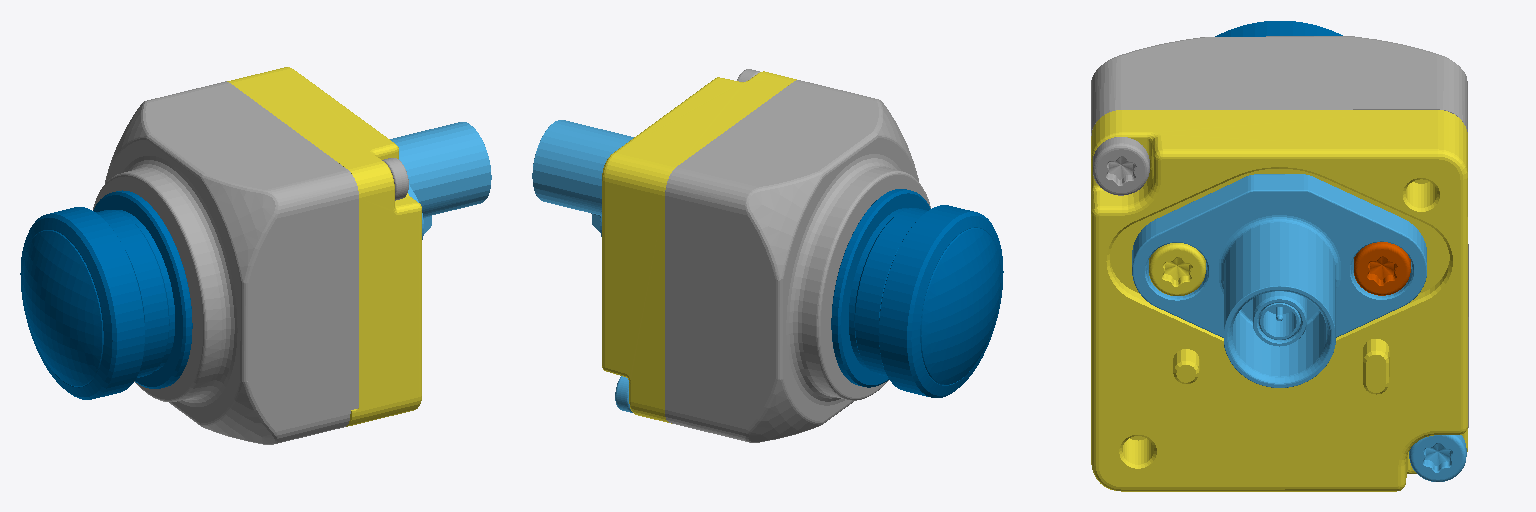
URDF robot description (SHF3G):
<?xml version="1.0"?>
<!-- Generated by usd2urdf.py from SHF3G.calibrated.acceptance.usd -->
<!-- metersPerUnit=0.01 upAxis=Z -->
<robot name="SHF3G">
  <link name="base_link">
  </link>
  <link name="Root">
  </link>
  <link name="SHF3G">
  </link>
  <link name="Lens">
  </link>
  <link name="Mesh">
    <visual>
      <origin xyz="0 0 0" rpy="0 0 0"/>
      <geometry>
        <mesh filename="meshes/Mesh.stl"/>
      </geometry>
    </visual>
    <collision>
      <origin xyz="0 0 0" rpy="0 0 0"/>
      <geometry>
        <mesh filename="meshes/Mesh.stl"/>
      </geometry>
    </collision>
    <inertial>
      <origin xyz="0 0 0" rpy="0 0 0"/>
      <mass value="0.15"/>
      <inertia ixx="8.09999846e-06" ixy="0" ixz="0" iyy="6.91312676e-06" iyz="0" izz="6.91312592e-06"/>
    </inertial>
  </link>
  <link name="Camera">
  </link>
  <link name="Top">
  </link>
  <link name="Mesh_1">
    <visual>
      <origin xyz="0 0 0" rpy="0 0 0"/>
      <geometry>
        <mesh filename="meshes/Mesh_1.stl"/>
      </geometry>
    </visual>
    <collision>
      <origin xyz="0 0 0" rpy="0 0 0"/>
      <geometry>
        <mesh filename="meshes/Mesh_1.stl"/>
      </geometry>
    </collision>
    <inertial>
      <origin xyz="0 0 0" rpy="0 0 0"/>
      <mass value="0.15"/>
      <inertia ixx="1.57174561e-05" ixy="0" ixz="0" iyy="1.07298366e-05" iyz="0" izz="1.07408424e-05"/>
    </inertial>
  </link>
  <link name="Fakra">
  </link>
  <link name="Mesh_2">
    <visual>
      <origin xyz="0 0 0" rpy="0 0 0"/>
      <geometry>
        <mesh filename="meshes/Mesh_2.stl"/>
      </geometry>
    </visual>
    <collision>
      <origin xyz="0 0 0" rpy="0 0 0"/>
      <geometry>
        <mesh filename="meshes/Mesh_2.stl"/>
      </geometry>
    </collision>
    <inertial>
      <origin xyz="0 0 0" rpy="0 0 0"/>
      <mass value="0.15"/>
      <inertia ixx="6.65033565e-06" ixy="0" ixz="0" iyy="5.89841094e-06" iyz="0" izz="8.85192401e-06"/>
    </inertial>
  </link>
  <link name="Bottom">
  </link>
  <link name="Mesh_3">
    <visual>
      <origin xyz="0 0 0" rpy="0 0 0"/>
      <geometry>
        <mesh filename="meshes/Mesh_3.stl"/>
      </geometry>
    </visual>
    <collision>
      <origin xyz="0 0 0" rpy="0 0 0"/>
      <geometry>
        <mesh filename="meshes/Mesh_3.stl"/>
      </geometry>
    </collision>
    <inertial>
      <origin xyz="0 0 0" rpy="0 0 0"/>
      <mass value="0.15"/>
      <inertia ixx="1.56265209e-05" ixy="0" ixz="0" iyy="8.9174698e-06" iyz="0" izz="8.9180519e-06"/>
    </inertial>
  </link>
  <link name="MainBoard">
  </link>
  <link name="Mesh_4">
    <visual>
      <origin xyz="0 0 0" rpy="0 0 0"/>
      <geometry>
        <mesh filename="meshes/Mesh_4.stl"/>
      </geometry>
    </visual>
    <collision>
      <origin xyz="0 0 0" rpy="0 0 0"/>
      <geometry>
        <mesh filename="meshes/Mesh_4.stl"/>
      </geometry>
    </collision>
    <inertial>
      <origin xyz="0 0 0" rpy="0 0 0"/>
      <mass value="0.15"/>
      <inertia ixx="1.00138736e-05" ixy="0" ixz="0" iyy="5.04314007e-06" iyz="0" izz="5.04306924e-06"/>
    </inertial>
  </link>
  <link name="Screw_01">
  </link>
  <link name="Mesh_5">
    <visual>
      <origin xyz="0 0 0" rpy="0 0 0"/>
      <geometry>
        <mesh filename="meshes/Mesh_5.stl"/>
      </geometry>
    </visual>
    <collision>
      <origin xyz="0 0 0" rpy="0 0 0"/>
      <geometry>
        <mesh filename="meshes/Mesh_5.stl"/>
      </geometry>
    </collision>
    <inertial>
      <origin xyz="0 0 0" rpy="0 0 0"/>
      <mass value="0.15"/>
      <inertia ixx="3.60311072e-07" ixy="0" ixz="0" iyy="7.08280602e-07" iyz="0" izz="7.08280513e-07"/>
    </inertial>
  </link>
  <link name="Screw_02">
  </link>
  <link name="Mesh_6">
    <visual>
      <origin xyz="0 0 0" rpy="0 0 0"/>
      <geometry>
        <mesh filename="meshes/Mesh_6.stl"/>
      </geometry>
    </visual>
    <collision>
      <origin xyz="0 0 0" rpy="0 0 0"/>
      <geometry>
        <mesh filename="meshes/Mesh_6.stl"/>
      </geometry>
    </collision>
    <inertial>
      <origin xyz="0 0 0" rpy="0 0 0"/>
      <mass value="0.15"/>
      <inertia ixx="3.60311116e-07" ixy="0" ixz="0" iyy="7.08280602e-07" iyz="0" izz="7.08280558e-07"/>
    </inertial>
  </link>
  <link name="Screw_03">
  </link>
  <link name="Mesh_7">
    <visual>
      <origin xyz="0 0 0" rpy="0 0 0"/>
      <geometry>
        <mesh filename="meshes/Mesh_7.stl"/>
      </geometry>
    </visual>
    <collision>
      <origin xyz="0 0 0" rpy="0 0 0"/>
      <geometry>
        <mesh filename="meshes/Mesh_7.stl"/>
      </geometry>
    </collision>
    <inertial>
      <origin xyz="0 0 0" rpy="0 0 0"/>
      <mass value="0.15"/>
      <inertia ixx="3.60382519e-07" ixy="0" ixz="0" iyy="7.08295098e-07" iyz="0" izz="7.08337464e-07"/>
    </inertial>
  </link>
  <link name="Screw_04">
  </link>
  <link name="Mesh_8">
    <visual>
      <origin xyz="0 0 0" rpy="0 0 0"/>
      <geometry>
        <mesh filename="meshes/Mesh_8.stl"/>
      </geometry>
    </visual>
    <collision>
      <origin xyz="0 0 0" rpy="0 0 0"/>
      <geometry>
        <mesh filename="meshes/Mesh_8.stl"/>
      </geometry>
    </collision>
    <inertial>
      <origin xyz="0 0 0" rpy="0 0 0"/>
      <mass value="0.15"/>
      <inertia ixx="3.60382519e-07" ixy="0" ixz="0" iyy="7.08295098e-07" iyz="0" izz="7.08337464e-07"/>
    </inertial>
  </link>
  <link name="Screw_05">
  </link>
  <link name="Mesh_9">
    <visual>
      <origin xyz="0 0 0" rpy="0 0 0"/>
      <geometry>
        <mesh filename="meshes/Mesh_9.stl"/>
      </geometry>
    </visual>
    <collision>
      <origin xyz="0 0 0" rpy="0 0 0"/>
      <geometry>
        <mesh filename="meshes/Mesh_9.stl"/>
      </geometry>
    </collision>
    <inertial>
      <origin xyz="0 0 0" rpy="0 0 0"/>
      <mass value="0.15"/>
      <inertia ixx="3.60310983e-07" ixy="0" ixz="0" iyy="1.30828037e-06" iyz="0" izz="1.30828046e-06"/>
    </inertial>
  </link>
  <link name="Screw_06">
  </link>
  <link name="Mesh_10">
    <visual>
      <origin xyz="0 0 0" rpy="0 0 0"/>
      <geometry>
        <mesh filename="meshes/Mesh_10.stl"/>
      </geometry>
    </visual>
    <collision>
      <origin xyz="0 0 0" rpy="0 0 0"/>
      <geometry>
        <mesh filename="meshes/Mesh_10.stl"/>
      </geometry>
    </collision>
    <inertial>
      <origin xyz="0 0 0" rpy="0 0 0"/>
      <mass value="0.15"/>
      <inertia ixx="3.60382607e-07" ixy="0" ixz="0" iyy="7.08295142e-07" iyz="0" izz="7.08337508e-07"/>
    </inertial>
  </link>
  <link name="Screw_07">
  </link>
  <link name="Mesh_11">
    <visual>
      <origin xyz="0 0 0" rpy="0 0 0"/>
      <geometry>
        <mesh filename="meshes/Mesh_11.stl"/>
      </geometry>
    </visual>
    <collision>
      <origin xyz="0 0 0" rpy="0 0 0"/>
      <geometry>
        <mesh filename="meshes/Mesh_11.stl"/>
      </geometry>
    </collision>
    <inertial>
      <origin xyz="0 0 0" rpy="0 0 0"/>
      <mass value="0.15"/>
      <inertia ixx="3.60311072e-07" ixy="0" ixz="0" iyy="7.08280558e-07" iyz="0" izz="7.08280558e-07"/>
    </inertial>
  </link>
  <link name="Screw_08">
  </link>
  <link name="Mesh_12">
    <visual>
      <origin xyz="0 0 0" rpy="0 0 0"/>
      <geometry>
        <mesh filename="meshes/Mesh_12.stl"/>
      </geometry>
    </visual>
    <collision>
      <origin xyz="0 0 0" rpy="0 0 0"/>
      <geometry>
        <mesh filename="meshes/Mesh_12.stl"/>
      </geometry>
    </collision>
    <inertial>
      <origin xyz="0 0 0" rpy="0 0 0"/>
      <mass value="0.15"/>
      <inertia ixx="3.6031105e-07" ixy="0" ixz="0" iyy="7.0828058e-07" iyz="0" izz="7.08280513e-07"/>
    </inertial>
  </link>
  <link name="SHF3G_lens_0">
  </link>
  <joint name="base_link_to_Root" type="fixed">
    <parent link="base_link"/>
    <child link="Root"/>
    <origin xyz="0 0 0" rpy="0 0 0"/>
  </joint>
  <joint name="Root_to_SHF3G" type="fixed">
    <parent link="Root"/>
    <child link="SHF3G"/>
    <origin xyz="-0.114788606 0 0" rpy="0 0 0"/>
  </joint>
  <joint name="SHF3G_to_Lens" type="fixed">
    <parent link="SHF3G"/>
    <child link="Lens"/>
    <origin xyz="0 0 0" rpy="0 0 0"/>
  </joint>
  <joint name="Lens_to_Mesh" type="fixed">
    <parent link="Lens"/>
    <child link="Mesh"/>
    <origin xyz="0.0157574902 3.12805176e-07 3.15189362e-07" rpy="0 0 0"/>
  </joint>
  <joint name="Mesh_to_Camera" type="fixed">
    <parent link="Mesh"/>
    <child link="Camera"/>
    <origin xyz="-0.00792213981 0.000111770174 -6.33899169e-06" rpy="1.58544924 0 1.59717174"/>
  </joint>
  <joint name="SHF3G_to_Top" type="fixed">
    <parent link="SHF3G"/>
    <child link="Top"/>
    <origin xyz="0 0 0" rpy="0 0 0"/>
  </joint>
  <joint name="Top_to_Mesh_1" type="fixed">
    <parent link="Top"/>
    <child link="Mesh_1"/>
    <origin xyz="0.0262296934 3.47137451e-07 -8.43811035e-06" rpy="0 0 0"/>
  </joint>
  <joint name="SHF3G_to_Fakra" type="fixed">
    <parent link="SHF3G"/>
    <child link="Fakra"/>
    <origin xyz="0 0 0" rpy="0 0 0"/>
  </joint>
  <joint name="Fakra_to_Mesh_2" type="fixed">
    <parent link="Fakra"/>
    <child link="Mesh_2"/>
    <origin xyz="0.0430146942 -1.78451538e-05 0.00437620884" rpy="0 0 0"/>
  </joint>
  <joint name="SHF3G_to_Bottom" type="fixed">
    <parent link="SHF3G"/>
    <child link="Bottom"/>
    <origin xyz="0 0 0" rpy="0 0 0"/>
  </joint>
  <joint name="Bottom_to_Mesh_3" type="fixed">
    <parent link="Bottom"/>
    <child link="Mesh_3"/>
    <origin xyz="0.0373146935 -1.77426338e-05 -2.66289711e-05" rpy="0 0 0"/>
  </joint>
  <joint name="SHF3G_to_MainBoard" type="fixed">
    <parent link="SHF3G"/>
    <child link="MainBoard"/>
    <origin xyz="0 0 0" rpy="0 0 0"/>
  </joint>
  <joint name="MainBoard_to_Mesh_4" type="fixed">
    <parent link="MainBoard"/>
    <child link="Mesh_4"/>
    <origin xyz="0.031065197 8.14294815e-06 -9.39464569e-06" rpy="0 0 0"/>
  </joint>
  <joint name="SHF3G_to_Screw_01" type="fixed">
    <parent link="SHF3G"/>
    <child link="Screw_01"/>
    <origin xyz="0 0 0" rpy="0 0 0"/>
  </joint>
  <joint name="Screw_01_to_Mesh_5" type="fixed">
    <parent link="Screw_01"/>
    <child link="Mesh_5"/>
    <origin xyz="0.0301646957 0.00811443591 0.00817815614" rpy="0 0 0"/>
  </joint>
  <joint name="SHF3G_to_Screw_02" type="fixed">
    <parent link="SHF3G"/>
    <child link="Screw_02"/>
    <origin xyz="0 0 0" rpy="0 0 0"/>
  </joint>
  <joint name="Screw_02_to_Mesh_6" type="fixed">
    <parent link="Screw_02"/>
    <child link="Mesh_6"/>
    <origin xyz="0.0301646957 -0.0081219964 -0.008185776" rpy="0 0 0"/>
  </joint>
  <joint name="SHF3G_to_Screw_03" type="fixed">
    <parent link="SHF3G"/>
    <child link="Screw_03"/>
    <origin xyz="0 0 0" rpy="0 0 0"/>
  </joint>
  <joint name="Screw_03_to_Mesh_7" type="fixed">
    <parent link="Screw_03"/>
    <child link="Mesh_7"/>
    <origin xyz="0.0255646954 -0.00460207248 0.0076024487" rpy="0 0 0"/>
  </joint>
  <joint name="SHF3G_to_Screw_04" type="fixed">
    <parent link="SHF3G"/>
    <child link="Screw_04"/>
    <origin xyz="0 0 0" rpy="0 0 0"/>
  </joint>
  <joint name="Screw_04_to_Mesh_8" type="fixed">
    <parent link="Screw_04"/>
    <child link="Mesh_8"/>
    <origin xyz="0.0255646954 0.00660267186 -0.00660229516" rpy="0 0 0"/>
  </joint>
  <joint name="SHF3G_to_Screw_05" type="fixed">
    <parent link="SHF3G"/>
    <child link="Screw_05"/>
    <origin xyz="0 0 0" rpy="0 0 0"/>
  </joint>
  <joint name="Screw_05_to_Mesh_9" type="fixed">
    <parent link="Screw_05"/>
    <child link="Mesh_9"/>
    <origin xyz="0.0338646927 -0.0105409846 0.0104588547" rpy="0 0 0"/>
  </joint>
  <joint name="SHF3G_to_Screw_06" type="fixed">
    <parent link="SHF3G"/>
    <child link="Screw_06"/>
    <origin xyz="0 0 0" rpy="0 0 0"/>
  </joint>
  <joint name="Screw_06_to_Mesh_10" type="fixed">
    <parent link="Screw_06"/>
    <child link="Mesh_10"/>
    <origin xyz="0.0353646927 0.0104822845 -0.0105267782" rpy="0 0 0"/>
  </joint>
  <joint name="SHF3G_to_Screw_07" type="fixed">
    <parent link="SHF3G"/>
    <child link="Screw_07"/>
    <origin xyz="0 0 0" rpy="0 0 0"/>
  </joint>
  <joint name="Screw_07_to_Mesh_11" type="fixed">
    <parent link="Screw_07"/>
    <child link="Mesh_11"/>
    <origin xyz="0.0384646912 -0.00681772089 0.00452332735" rpy="0 0 0"/>
  </joint>
  <joint name="SHF3G_to_Screw_08" type="fixed">
    <parent link="SHF3G"/>
    <child link="Screw_08"/>
    <origin xyz="0 0 0" rpy="0 0 0"/>
  </joint>
  <joint name="Screw_08_to_Mesh_12" type="fixed">
    <parent link="Screw_08"/>
    <child link="Mesh_12"/>
    <origin xyz="0.0384646912 0.00678217483 0.00457651651" rpy="0 0 0"/>
  </joint>
  <joint name="SHF3G_to_SHF3G_lens_0" type="fixed">
    <parent link="SHF3G"/>
    <child link="SHF3G_lens_0"/>
    <origin xyz="0.00783535034 0.000112082979 -6.02380233e-06" rpy="-1.55614342 0 1.59717174"/>
  </joint>
</robot>

--- Render facts (derived) ---
3 views of the same robot in one strip: view 1: azimuth 30°, elevation 25°; view 2: azimuth 150°, elevation 25°; view 3: azimuth 270°, elevation 25° (orthographic).
Model SHF3G with 31 links and 30 joints (30 fixed), rooted at base_link, posed all joints at 0.
Visible links, largest first — view 1: Mesh_1, Mesh, Mesh_3, Mesh_2, Mesh_9; view 2: Mesh_1, Mesh, Mesh_3, Mesh_2; view 3: Mesh_3, Mesh_2, Mesh_1, Mesh_9, Mesh_12, Mesh_11, Mesh_10, Mesh.
Boxes of the visible links, <box> form: Mesh_1: <box>93,81,358,444</box>; Mesh: <box>20,190,192,399</box>; Mesh_3: <box>227,67,421,426</box>; Mesh_2: <box>390,122,491,239</box>; Mesh_9: <box>382,158,408,200</box>; Mesh_1: <box>665,80,930,442</box>; Mesh: <box>831,189,1003,397</box>; Mesh_3: <box>602,71,796,423</box>; Mesh_2: <box>532,120,633,236</box>; Mesh_3: <box>1091,110,1467,491</box>; Mesh_2: <box>1132,174,1426,387</box>; Mesh_1: <box>1091,36,1468,427</box>; Mesh_9: <box>1093,137,1149,195</box>; Mesh_12: <box>1354,242,1410,295</box>; Mesh_11: <box>1149,243,1205,295</box>; Mesh_10: <box>1409,435,1466,481</box>; Mesh: <box>1215,21,1342,36</box>.
Size in the robot's own frame: 0.0438 by 0.0251 by 0.0251 metres.
13 mesh visuals loaded from 13 distinct referenced files (13 binary STL).
